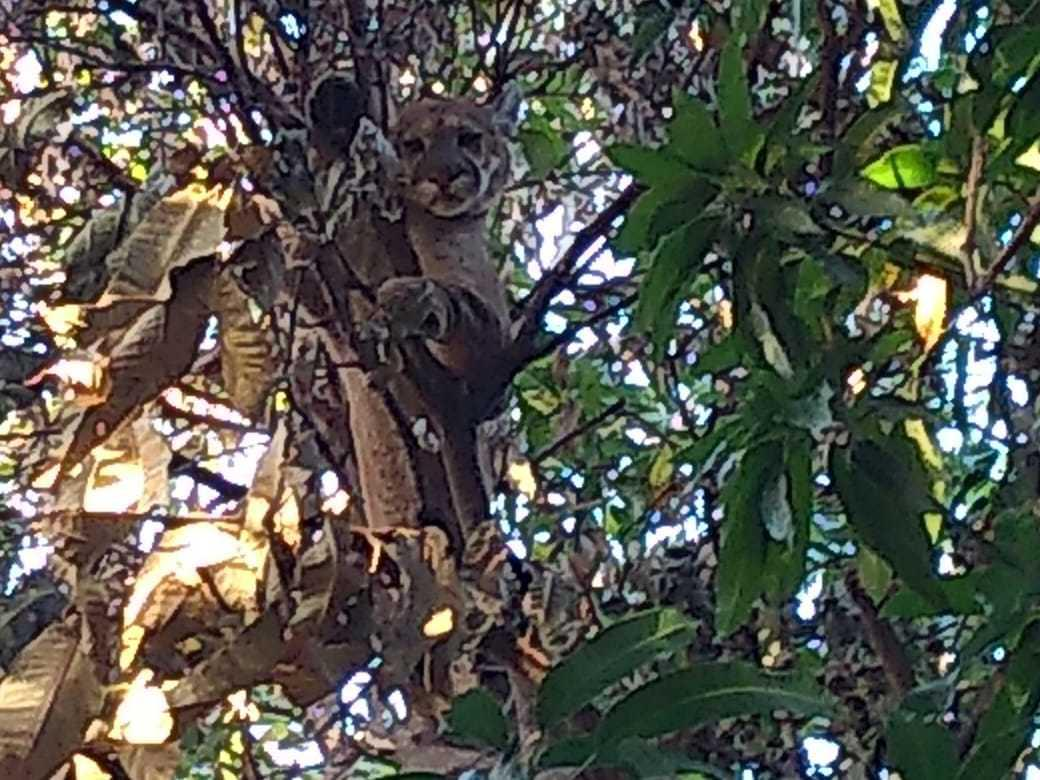OncaParda: (323, 81, 536, 482)
